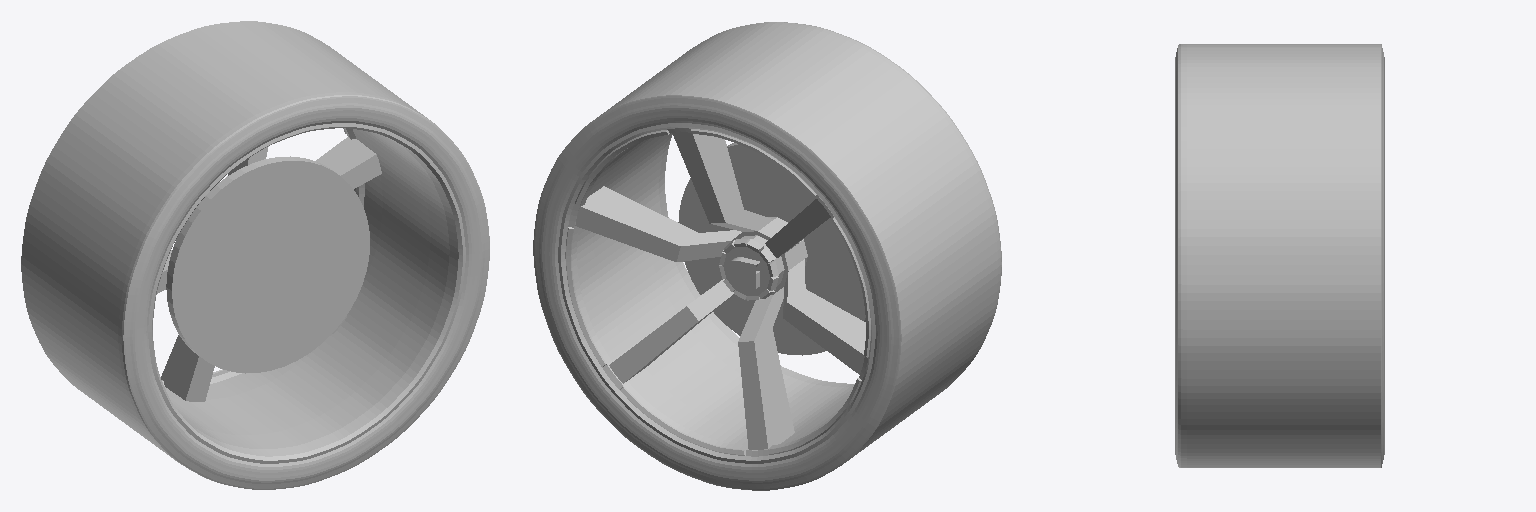
File: pneu.obj
3 views of the same model, side by side, from view 1: azimuth 30°, elevation 25°; view 2: azimuth 150°, elevation 25°; view 3: azimuth 270°, elevation 25° (orthographic).
Visible parts, largest first — view 1: Default; view 2: Default; view 3: Default.
Boxes of the visible parts, <box> form: Default: <box>21,21,489,489</box>; Default: <box>533,22,1001,490</box>; Default: <box>1175,44,1384,467</box>.
Size of the model in its own units: 0.9935 by 0.9935 by 0.4882.